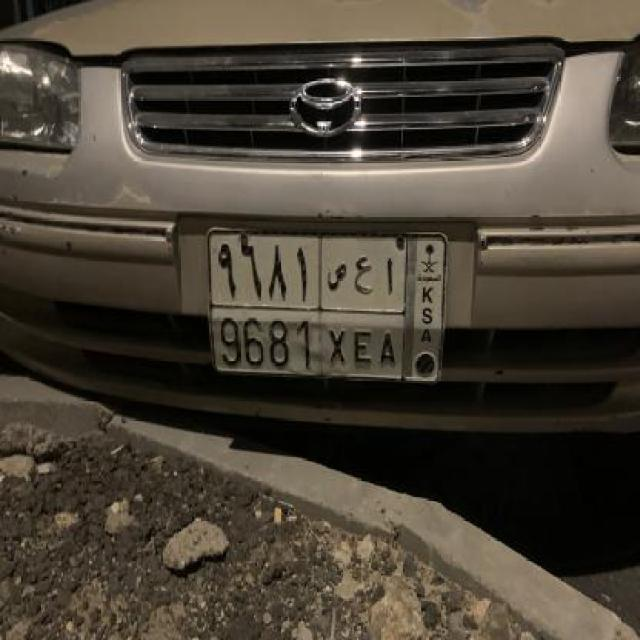license_plate: (200, 223, 454, 394)
